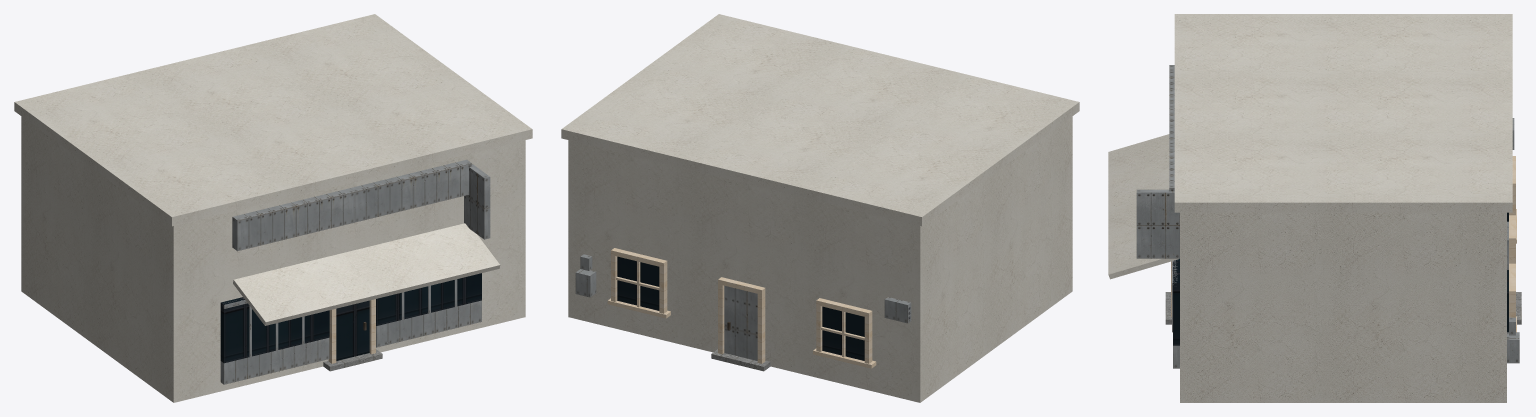
The model's file is nail-beauty-salon_lod0.gltf.
3 renders of one model, left to right at view 1: azimuth 30°, elevation 25°; view 2: azimuth 150°, elevation 25°; view 3: azimuth 270°, elevation 25°, orthographic. The views are drawn at different scales.
Parts seen in each view (by area): view 1: nail-beauty-salon__parapet, nail-beauty-salon_main, nail-beauty-salon__awning, nail-beauty-salon__sign_band, nail-beauty-salon_fen_07-glass-curtain-blue_1_t, nail-beauty-salon_fen_14-steel-panel_4, nail-beauty-salon__blade_sign, nail-beauty-salon_fen_04-limestone_0, nail-beauty-salon_fen_06-granite_3; view 2: nail-beauty-salon_main, nail-beauty-salon__parapet, nail-beauty-salon_fen_04-limestone_0, nail-beauty-salon_fen_14-steel-panel_4, nail-beauty-salon_fen_07-glass-curtain-blue_1_t, nail-beauty-salon_fen_06-granite_3; view 3: nail-beauty-salon__parapet, nail-beauty-salon_main, nail-beauty-salon__awning, nail-beauty-salon__blade_sign, nail-beauty-salon_fen_04-limestone_0, nail-beauty-salon_fen_14-steel-panel_4, nail-beauty-salon__sign_band, nail-beauty-salon_fen_07-glass-curtain-blue_1_t, nail-beauty-salon_fen_06-granite_3.
Boxes of the visible parts, x1,y1,x2,y2 form: nail-beauty-salon__parapet: [14, 14, 532, 226]; nail-beauty-salon_main: [21, 116, 525, 402]; nail-beauty-salon__awning: [233, 223, 500, 325]; nail-beauty-salon__sign_band: [232, 159, 471, 251]; nail-beauty-salon_fen_07-glass-curtain-blue_1_t: [220, 273, 481, 363]; nail-beauty-salon_fen_14-steel-panel_4: [220, 279, 481, 384]; nail-beauty-salon__blade_sign: [464, 164, 490, 239]; nail-beauty-salon_fen_04-limestone_0: [328, 299, 375, 363]; nail-beauty-salon_fen_06-granite_3: [323, 349, 382, 371]; nail-beauty-salon_main: [568, 116, 1072, 402]; nail-beauty-salon__parapet: [561, 14, 1079, 226]; nail-beauty-salon_fen_04-limestone_0: [607, 248, 876, 368]; nail-beauty-salon_fen_14-steel-panel_4: [575, 254, 911, 360]; nail-beauty-salon_fen_07-glass-curtain-blue_1_t: [617, 256, 864, 360]; nail-beauty-salon_fen_06-granite_3: [711, 349, 770, 371]; nail-beauty-salon__parapet: [1174, 14, 1512, 212]; nail-beauty-salon_main: [1180, 212, 1506, 402]; nail-beauty-salon__awning: [1108, 134, 1178, 279]; nail-beauty-salon__blade_sign: [1136, 189, 1179, 258]; nail-beauty-salon_fen_04-limestone_0: [1171, 156, 1516, 332]; nail-beauty-salon_fen_14-steel-panel_4: [1172, 118, 1519, 368]; nail-beauty-salon__sign_band: [1169, 65, 1174, 191]; nail-beauty-salon_fen_07-glass-curtain-blue_1_t: [1173, 212, 1508, 345]; nail-beauty-salon_fen_06-granite_3: [1165, 292, 1521, 324].
Size of the model in its own units: 12.3 by 6.15 by 11.37.
